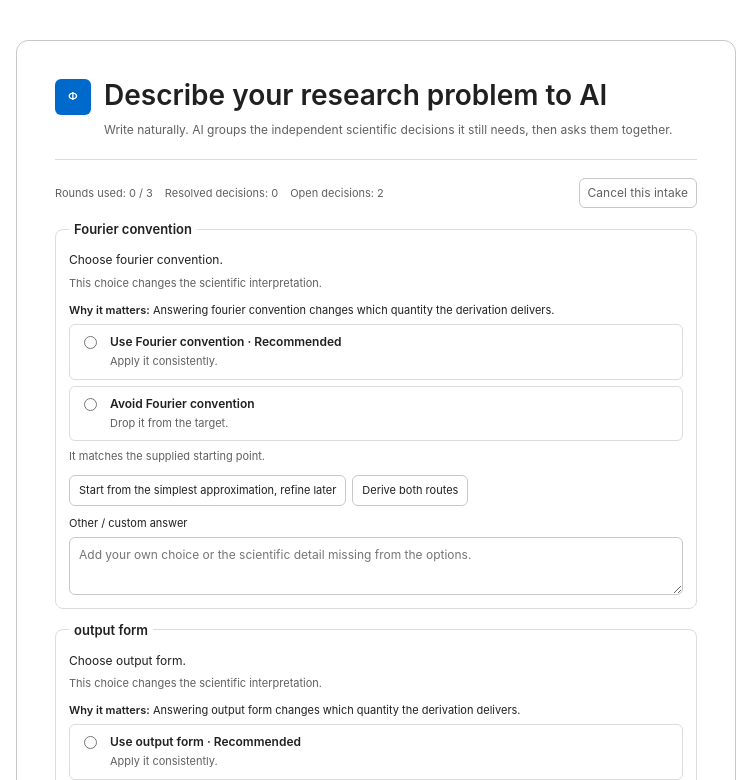
it: persistent frontier-based Problem Intake › reloads a session that moved after a failed round
The width and height of the screenshot is (753, 780).
Click the radio button labelled "Use Fourier convention · Recommended Apply it consistently.": (90, 342) x1=84 y1=336 x2=97 y2=349
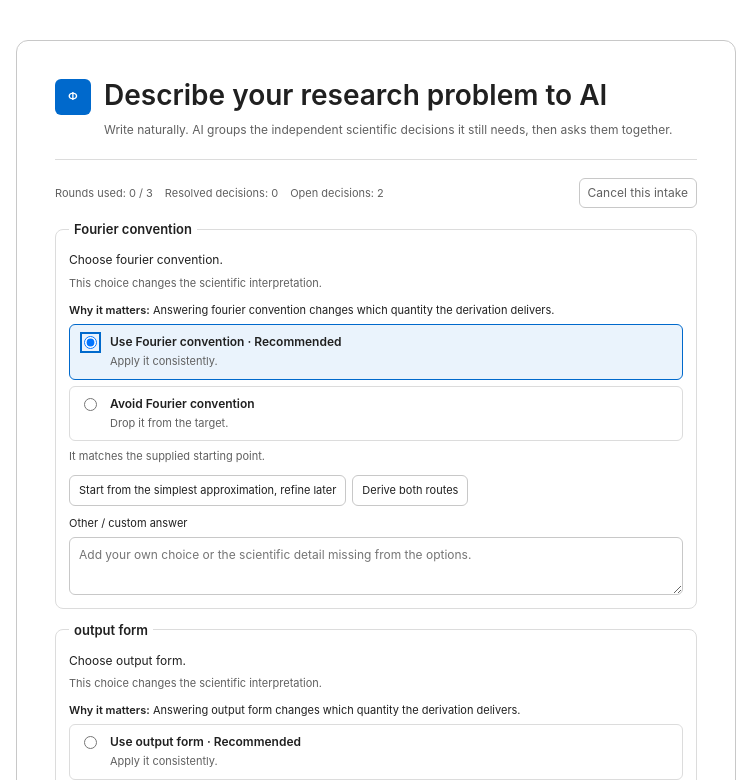
Click the radio button labelled "Use output form · Recommended Apply it consistently.": (90, 743) x1=84 y1=736 x2=97 y2=749
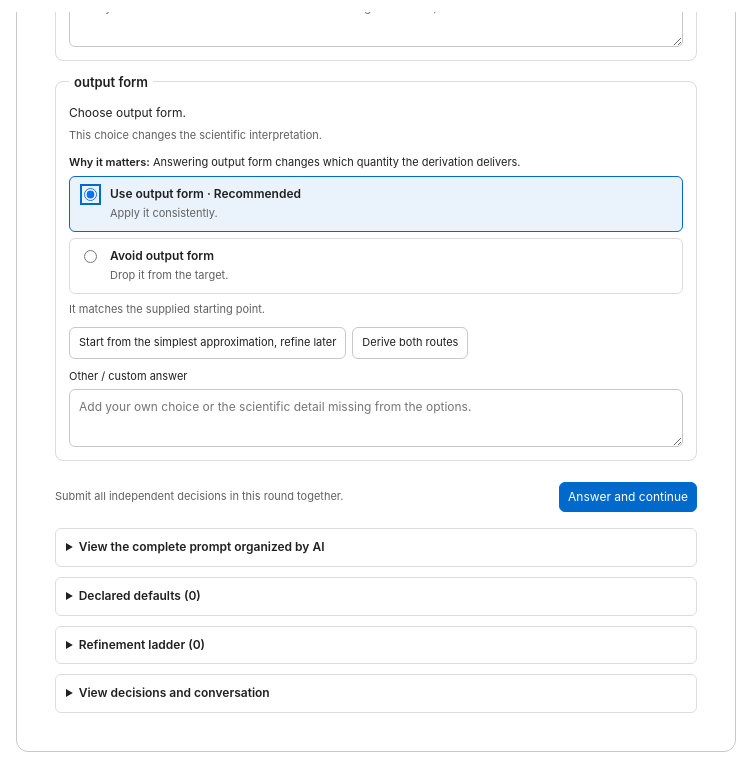
Click the button "Answer and continue": (628, 497) x1=559 y1=482 x2=697 y2=512
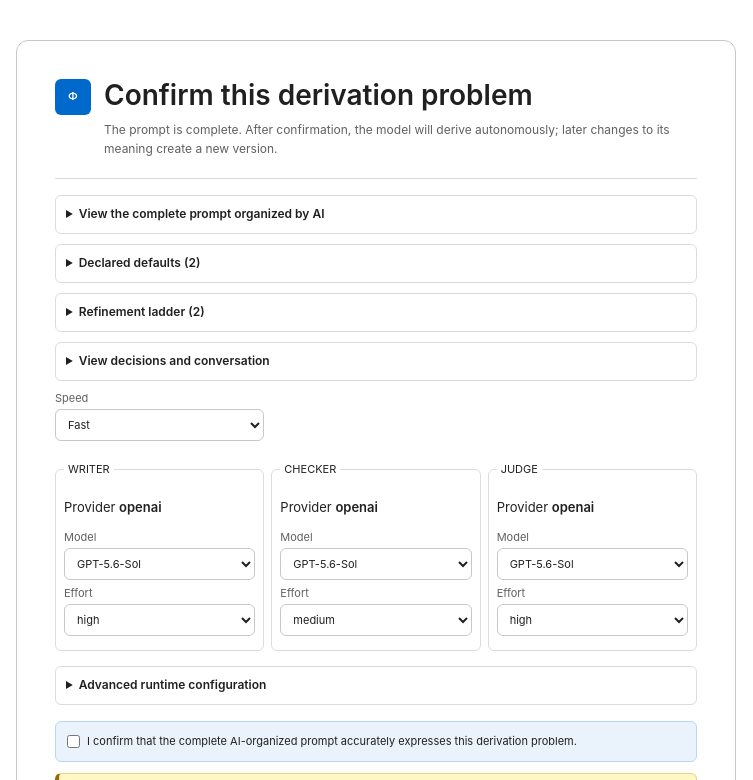
Result: the heading "Confirm this derivation problem" is shown at x1=104 y1=78 x2=533 y2=112
